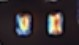MISSING: (11, 7, 37, 41), (42, 7, 68, 41)
